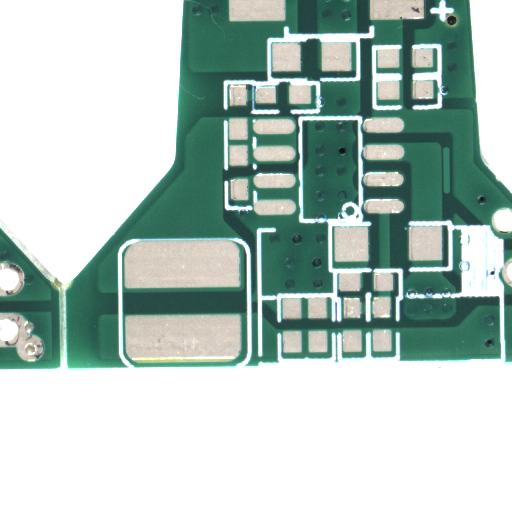Spurious_copper: (446, 169, 455, 218)
